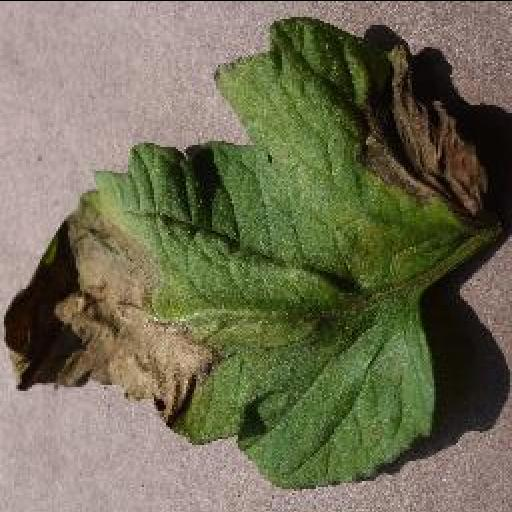disease_tomato: (2, 14, 490, 488)
